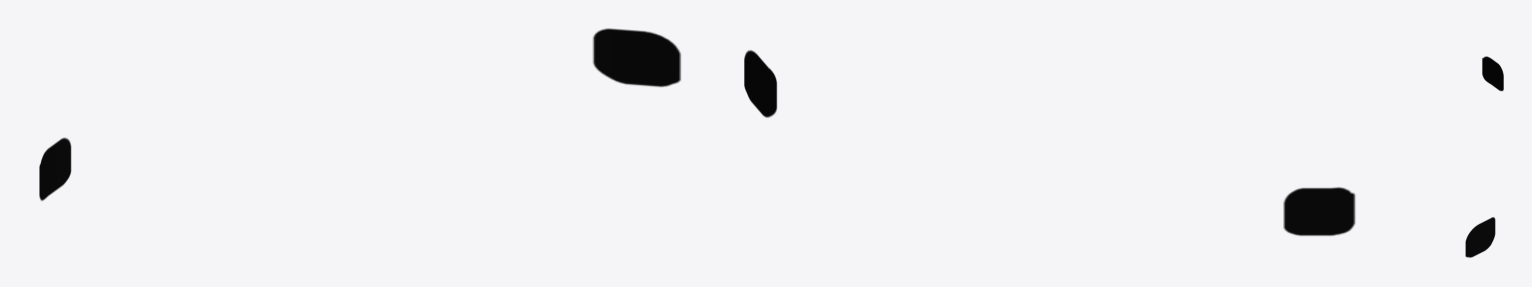
File: 09-Silly-derpy-face-eyes.glb
3 renders of one model, left to right at view 1: azimuth 30°, elevation 25°; view 2: azimuth 150°, elevation 25°; view 3: azimuth 270°, elevation 25°, orthographic. The views are drawn at different scales.
Parts seen in each view (by area): view 1: 09-Silly-derpy-face-eyes; view 2: 09-Silly-derpy-face-eyes; view 3: 09-Silly-derpy-face-eyes.
Boxes of the visible parts, <box> form: 09-Silly-derpy-face-eyes: <box>39,28,680,200</box>; 09-Silly-derpy-face-eyes: <box>744,50,1355,235</box>; 09-Silly-derpy-face-eyes: <box>1465,56,1503,257</box>.
Bounding box in the file's own units: 0.8877 × 0.2025 × 0.125.
Materials: 1 (1 with a texture image).
